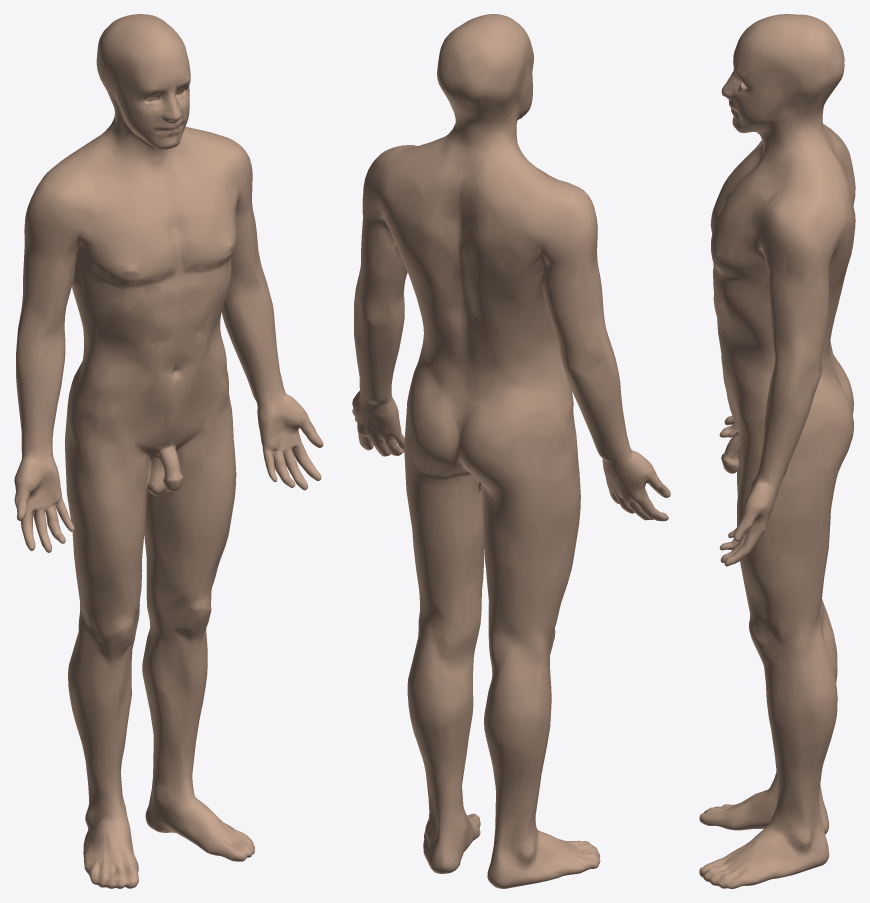
Rendered from skin.glb.
3 views of the same model, side by side, from view 1: azimuth 30°, elevation 25°; view 2: azimuth 150°, elevation 25°; view 3: azimuth 270°, elevation 25° (orthographic). The views are drawn at different scales.
Parts seen in each view (by area): view 1: skin; view 2: skin; view 3: skin.
Part boxes in pixels (x1,y1,x2,y2): skin: [14, 14, 323, 888]; skin: [352, 14, 670, 888]; skin: [699, 14, 855, 888].
Bounding box in the file's own units: 2.17 × 5.6 × 0.951.
